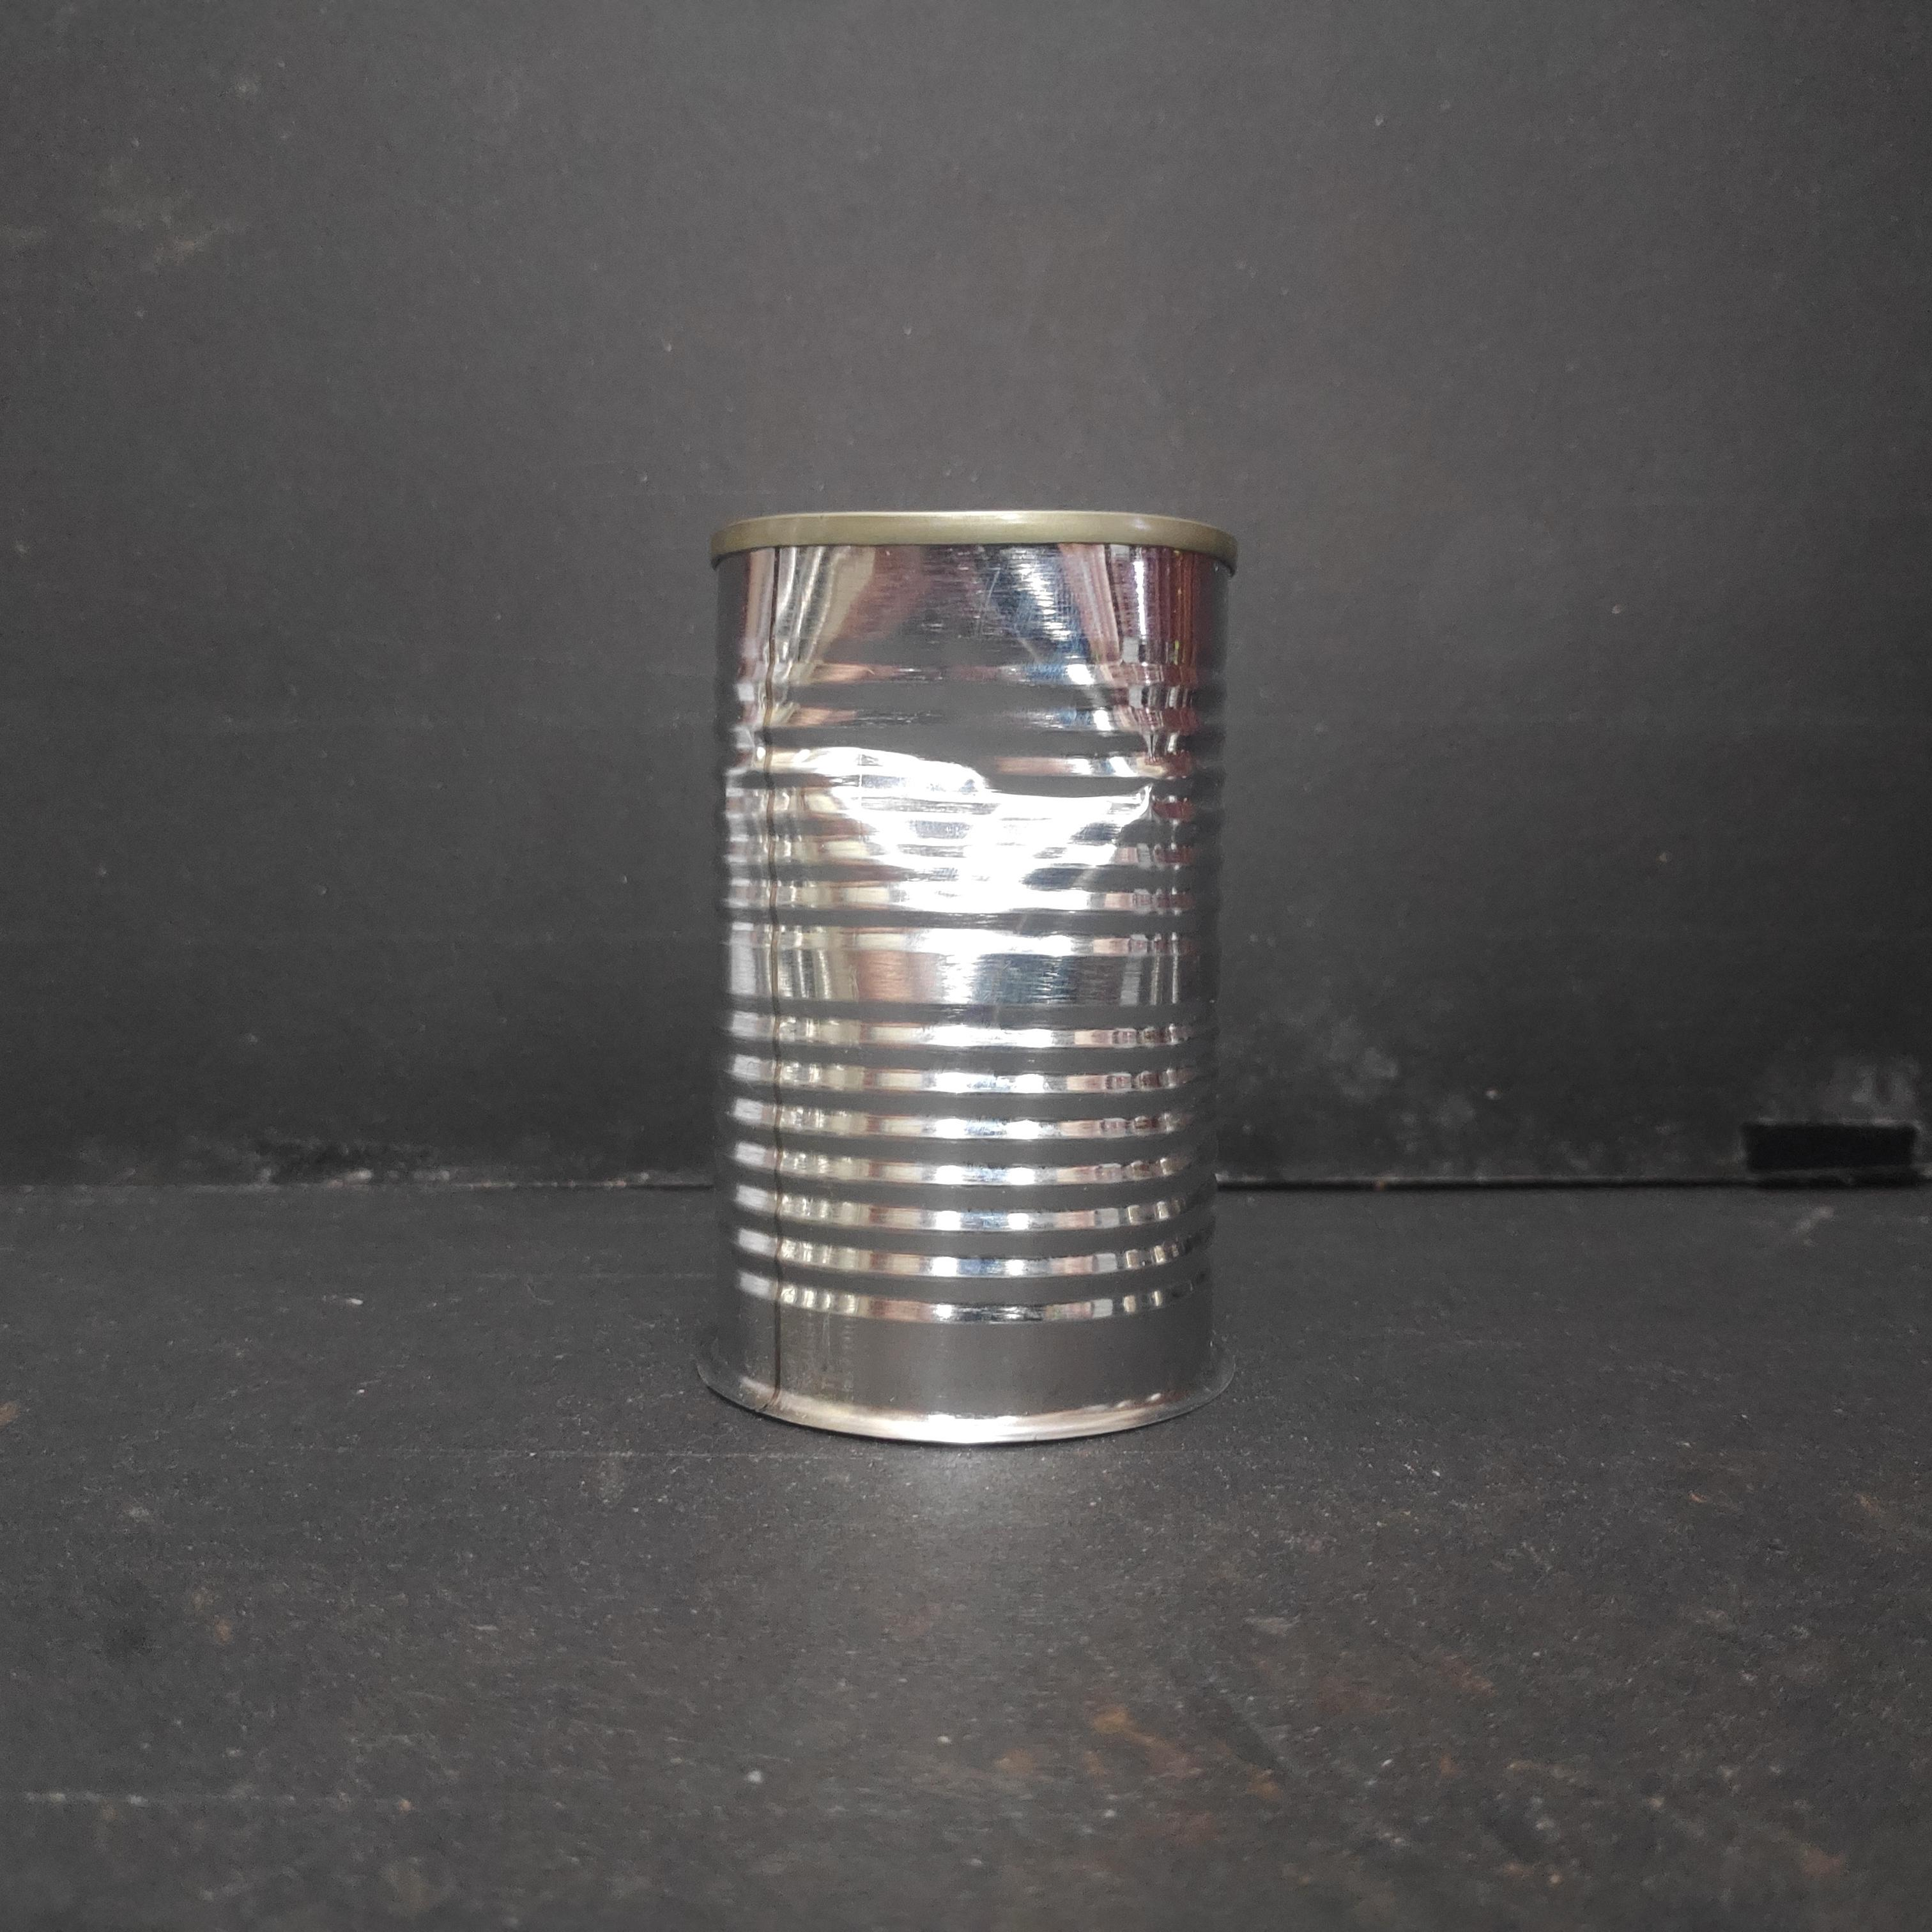Minor Defect: (694, 499, 1242, 1460)
